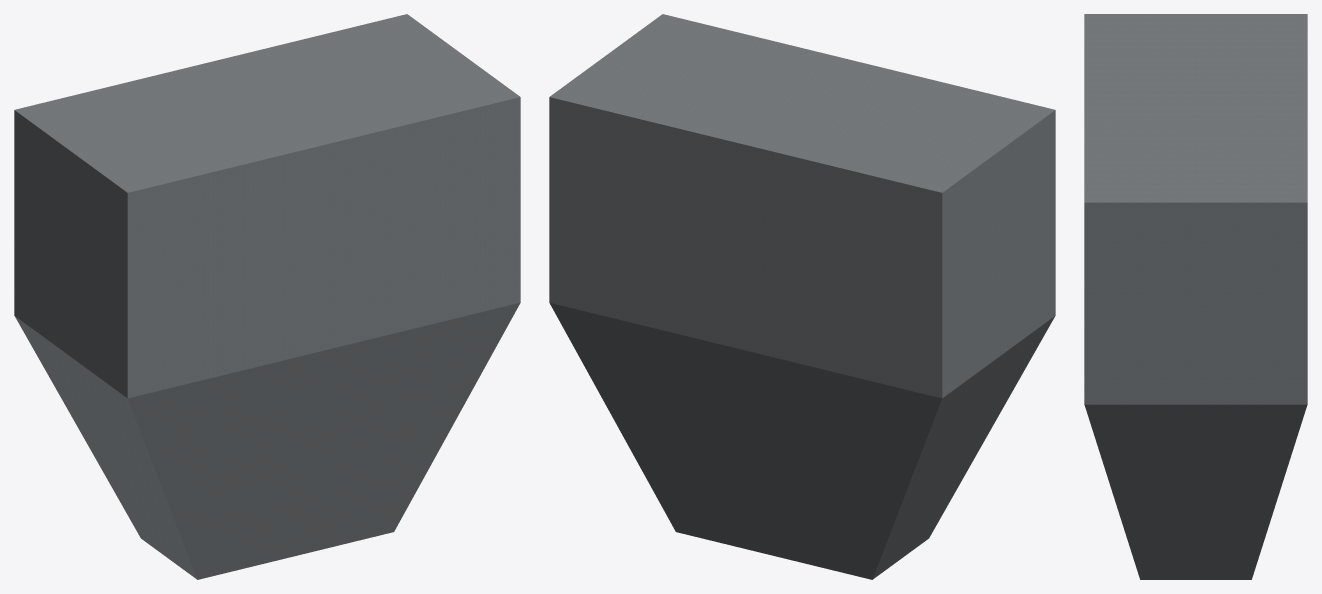
Rendered from 卸料站-20220905.glb.
3 renders of one model, left to right at view 1: azimuth 30°, elevation 25°; view 2: azimuth 150°, elevation 25°; view 3: azimuth 270°, elevation 25°, orthographic.
Size of the model in its own units: 4 by 4.2 by 2.
Materials: 1 (1 with a texture image).
